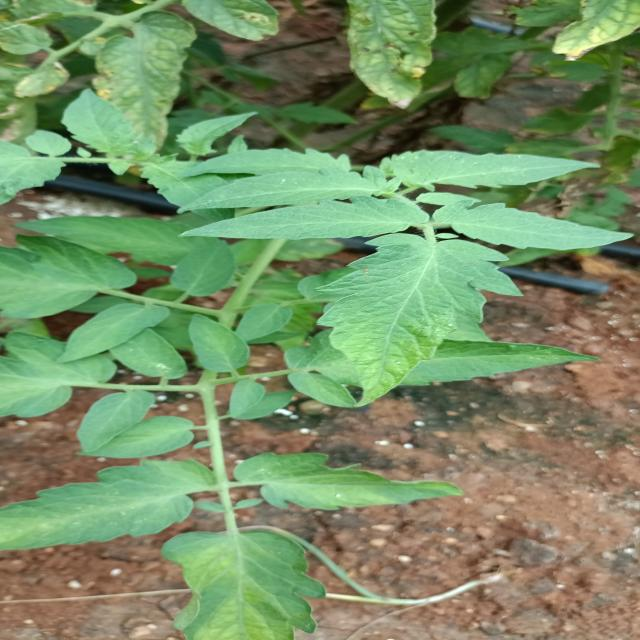Healthy Leaf: (321, 242, 505, 412), (1, 452, 202, 549), (163, 531, 340, 640), (237, 452, 458, 513), (437, 198, 640, 250), (174, 199, 421, 240), (380, 147, 596, 189), (63, 303, 163, 370), (76, 391, 159, 455), (182, 315, 263, 376)
